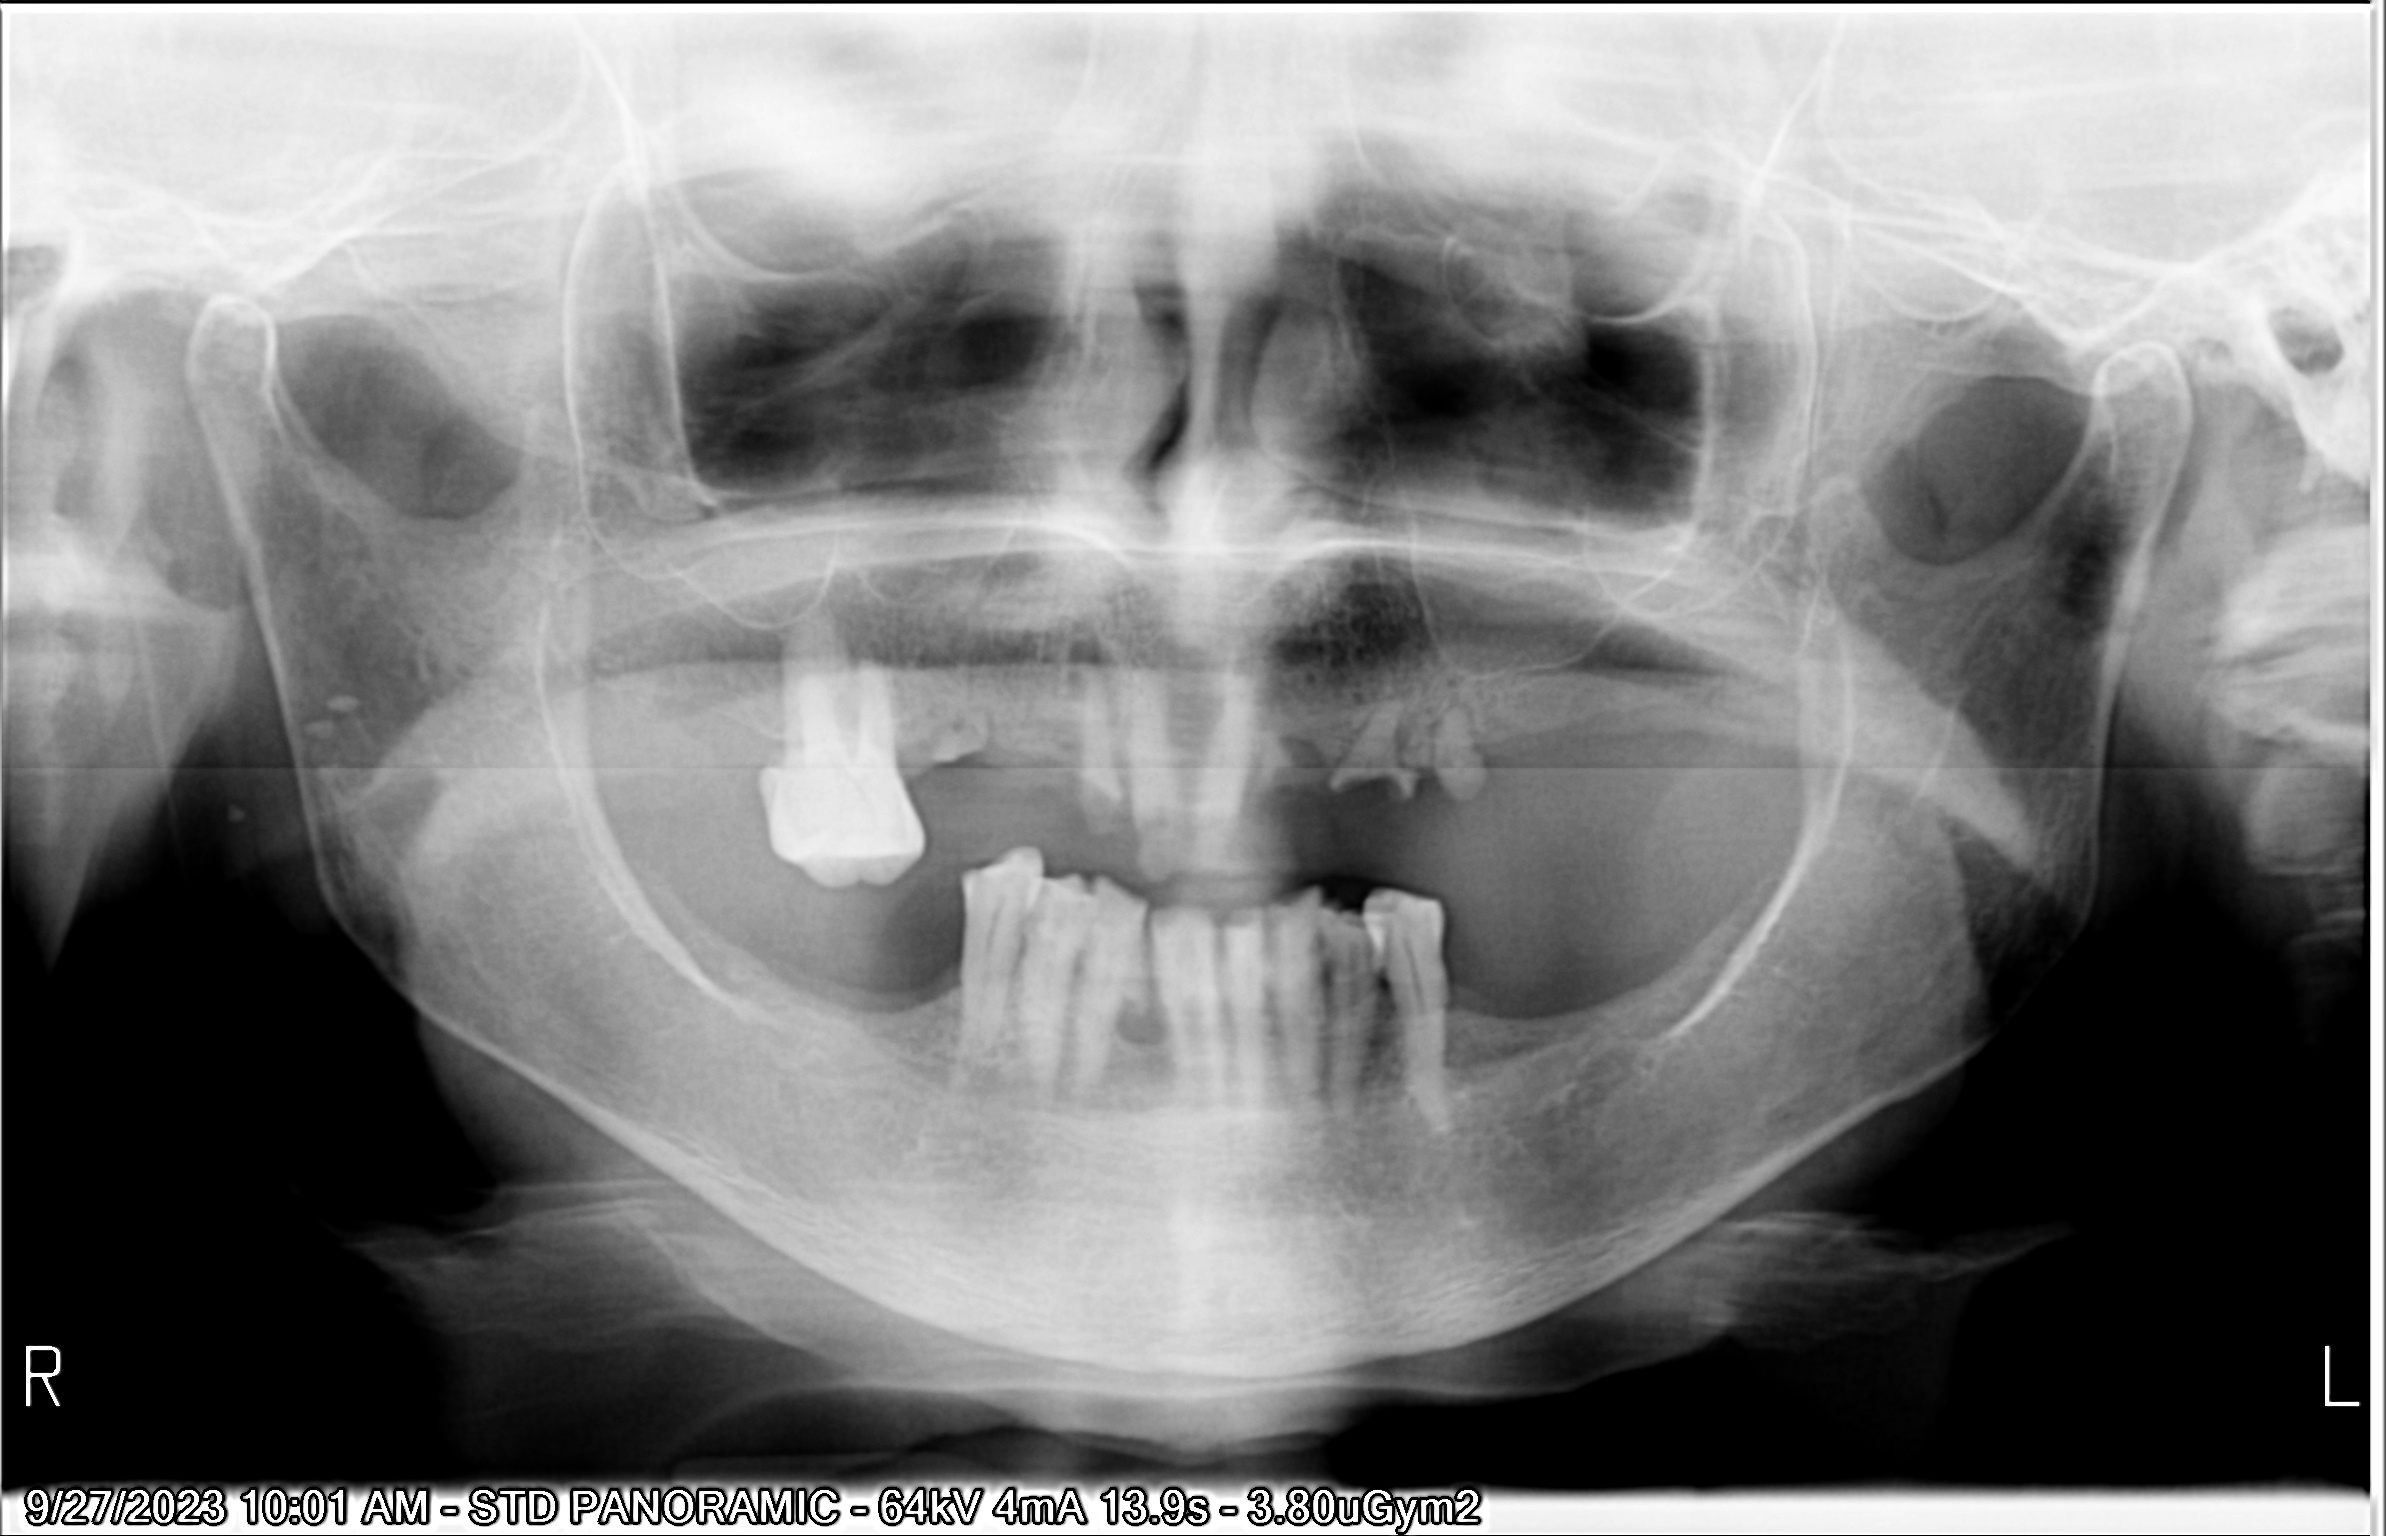API: (1056, 614, 1127, 724)
BON: (1101, 969, 1169, 1056)
CAR: (1070, 765, 1144, 847)
ROT: (1318, 671, 1431, 825), (1423, 685, 1501, 797), (920, 703, 1009, 774)
